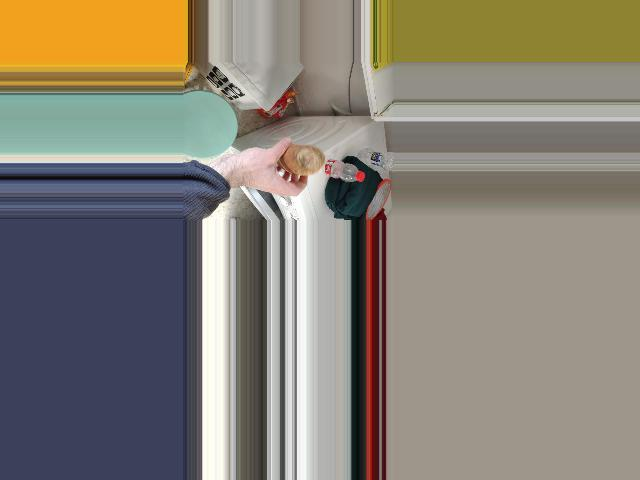sweet_potato: (271, 140, 323, 182)
